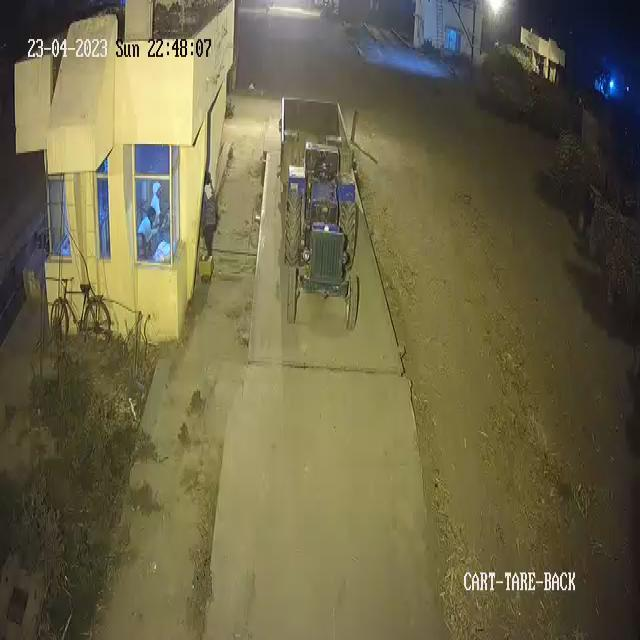Tratores - v5 YOLO V8L 2024-11-13: (278, 136, 364, 344)
